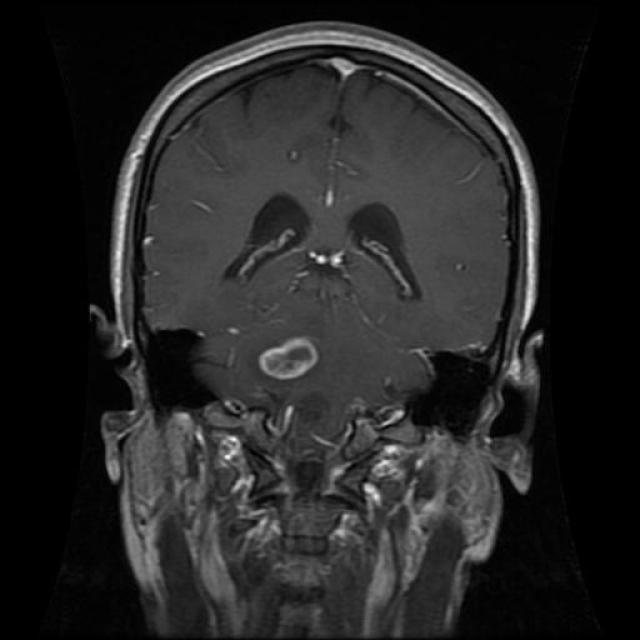glioma: (254, 330, 325, 390)
